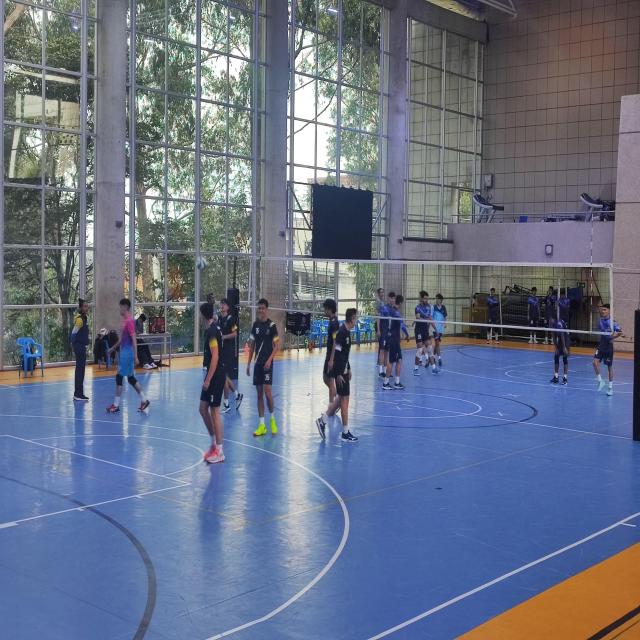volleyball: (196, 256, 207, 269), (100, 328, 108, 338)
